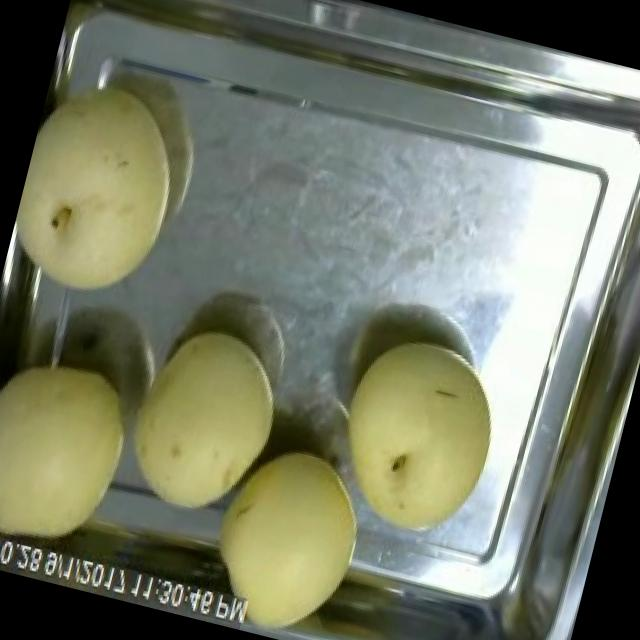Fruit: (0, 65, 209, 327), (308, 316, 521, 558), (97, 306, 306, 546), (181, 422, 385, 640), (0, 334, 159, 576)
